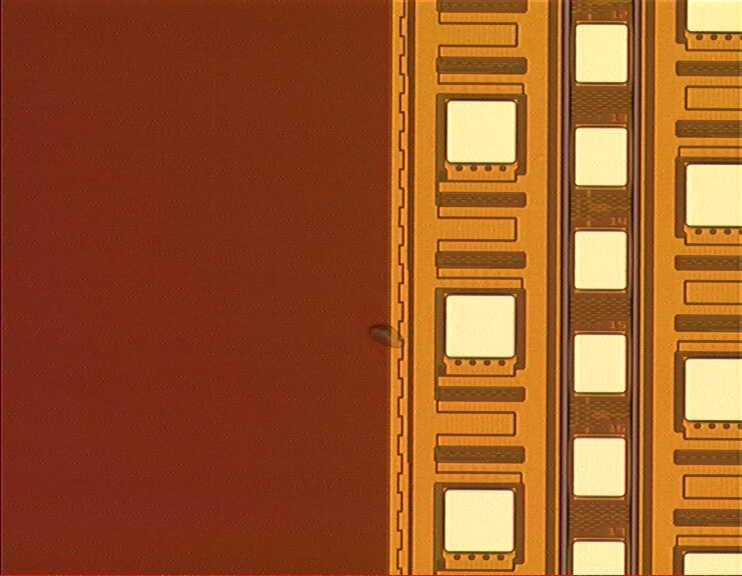PIQ PARTICLE: (360, 317, 406, 354)
